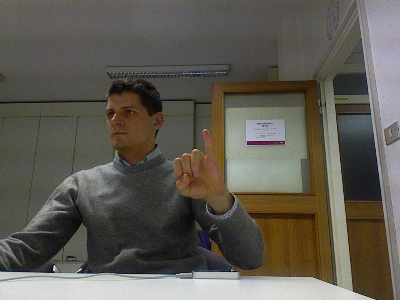小指: (172, 126, 226, 201)
